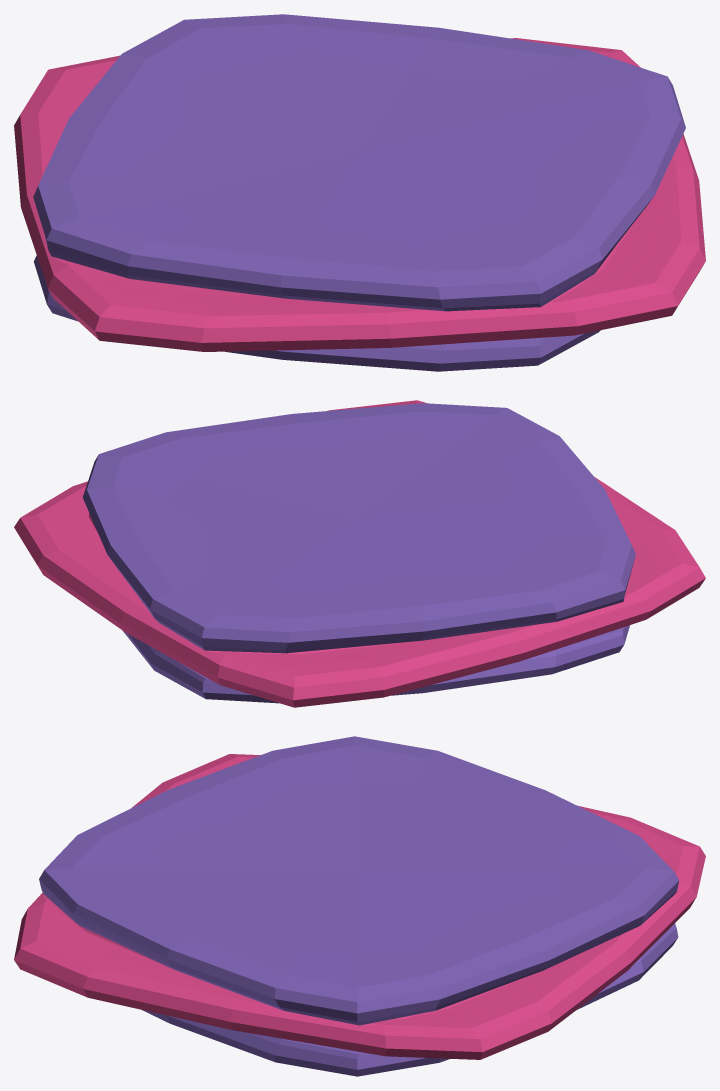
The model's file is 3leyer.platform.round.pink.glb.
3 renders of one model, top to bottom at view 1: azimuth 30°, elevation 25°; view 2: azimuth 150°, elevation 25°; view 3: azimuth 270°, elevation 25°, orthographic. The views are drawn at different scales.
Visible parts, largest first — view 1: 3leyerplatform.round.purple; view 2: 3leyerplatform.round.purple; view 3: 3leyerplatform.round.purple.
Boxes of the visible parts, <box> form: 3leyerplatform.round.purple: <box>14,14,705,371</box>; 3leyerplatform.round.purple: <box>14,400,705,707</box>; 3leyerplatform.round.purple: <box>14,736,705,1076</box>.
Bounding box in the file's own units: 3.08 × 0.4 × 3.09.
